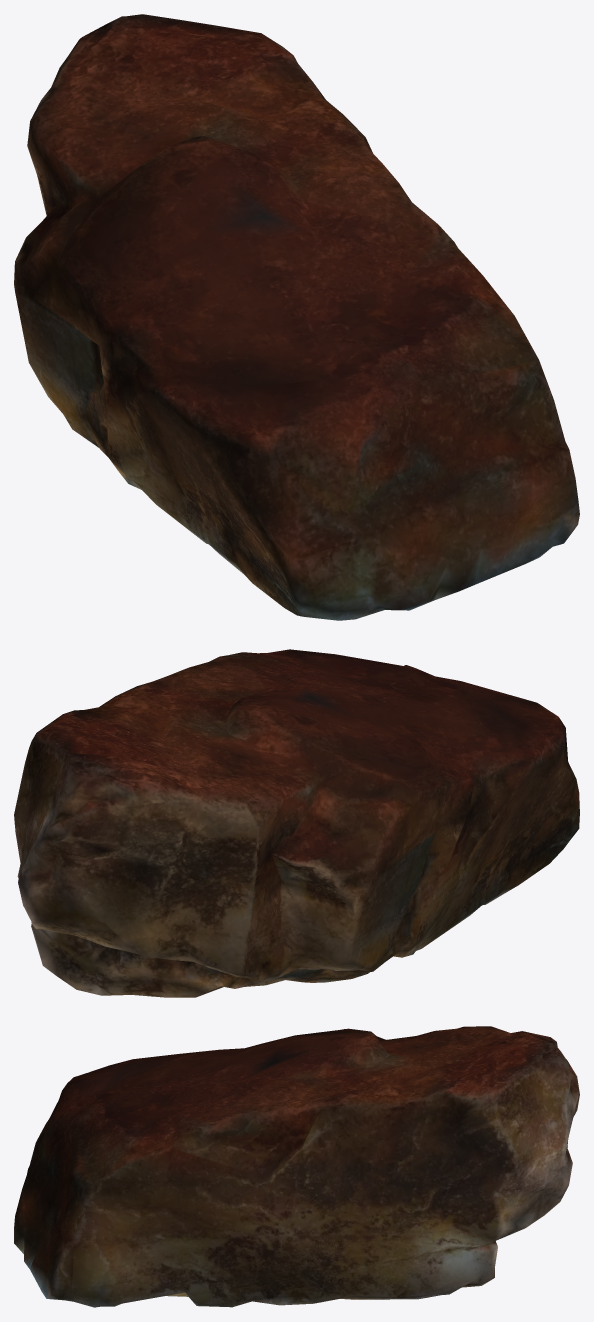
The model's file is nat-rock-a.glb.
The picture shows the model from 3 angles, top to bottom: view 1: azimuth 30°, elevation 25°; view 2: azimuth 150°, elevation 25°; view 3: azimuth 270°, elevation 25°; orthographic projection. The views are drawn at different scales.
Parts seen in each view (by area): view 1: rock_07; view 2: rock_07; view 3: rock_07.
Part boxes in pixels (<box>): rock_07: <box>14,14,579,620</box>; rock_07: <box>14,649,579,997</box>; rock_07: <box>14,1026,579,1307</box>.
Size of the model in its own units: 0.1675 by 0.1434 by 0.3198.
1 material, 1 textured.
